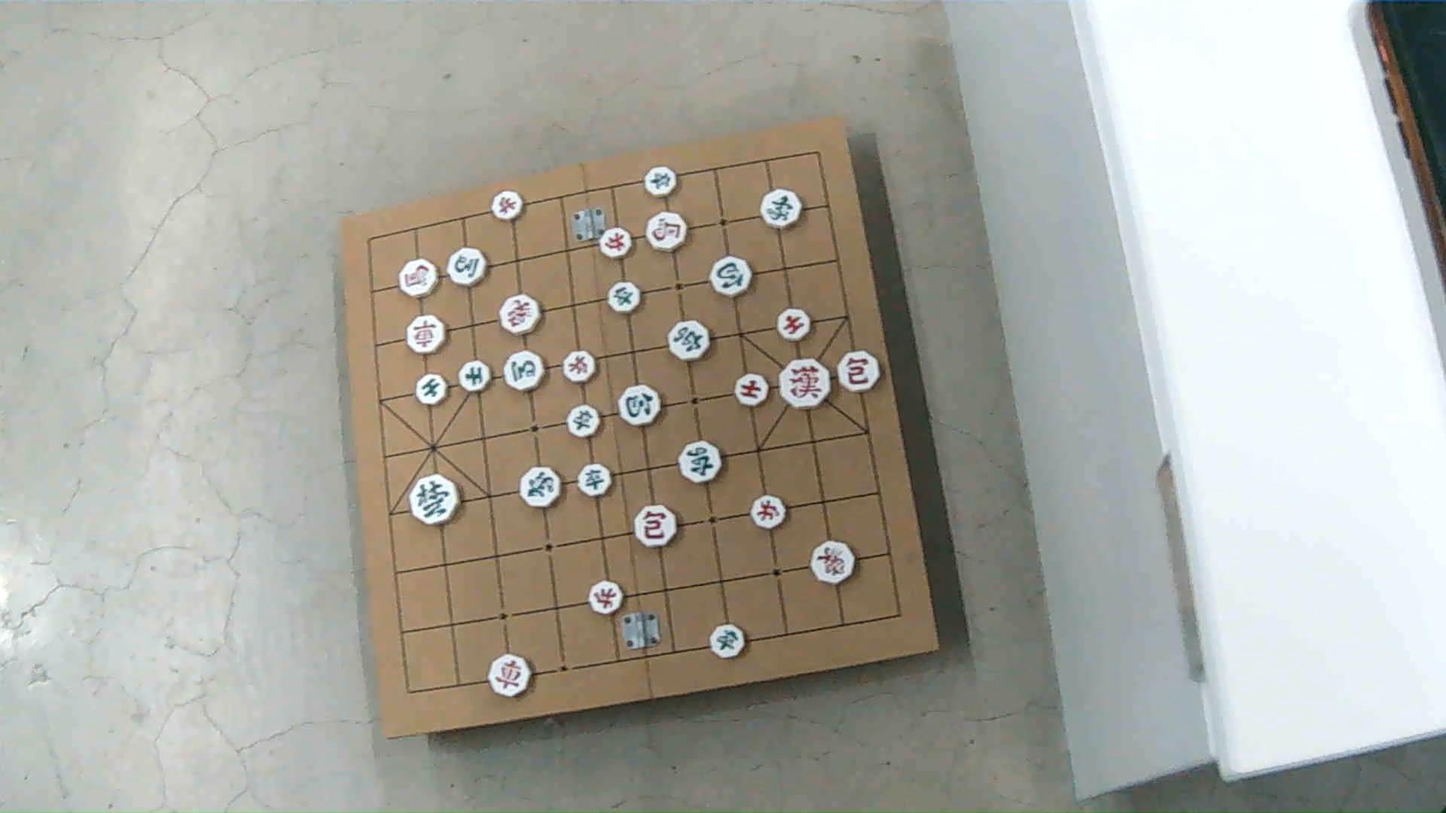cha_green: (681, 440, 724, 483), (669, 322, 710, 362)
cha_red: (488, 654, 531, 696), (404, 317, 444, 355)
jol_green: (712, 623, 747, 658), (581, 463, 615, 496), (642, 166, 676, 198), (609, 281, 642, 312), (569, 406, 600, 439)
jol_red: (752, 495, 786, 529), (590, 581, 623, 614), (488, 190, 521, 222), (599, 228, 631, 260), (561, 351, 594, 382)
ma_green: (449, 249, 491, 288), (502, 352, 542, 391)
ma_red: (397, 258, 441, 299), (647, 213, 687, 251)
po_green: (619, 384, 662, 425), (712, 257, 754, 297)
po_red: (838, 350, 884, 391), (633, 507, 677, 549)
sa_green: (459, 359, 491, 391), (416, 373, 447, 404)
sa_red: (778, 306, 811, 340), (734, 375, 767, 407)
sang_green: (520, 468, 563, 509), (762, 187, 805, 227)
sang_red: (810, 540, 853, 583), (502, 296, 543, 336)
wang_green: (407, 474, 458, 525)
wang_red: (782, 359, 834, 409)
